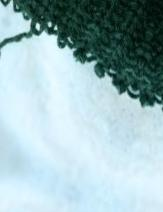snag: (1, 15, 50, 56)
